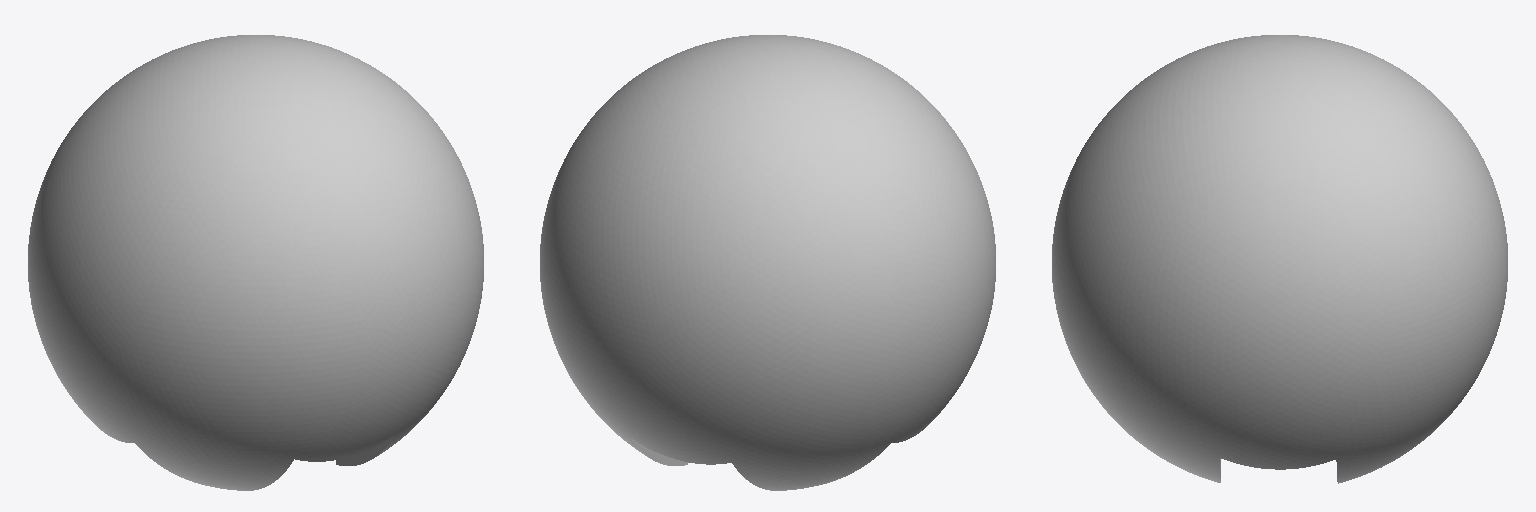
The model's file is blind.obj.
3 views of the same model, side by side, from view 1: azimuth 30°, elevation 25°; view 2: azimuth 150°, elevation 25°; view 3: azimuth 270°, elevation 25° (orthographic).
Parts seen in each view (by area): view 1: Object.1; view 2: Object.1; view 3: Object.1.
Boxes of the visible parts, box(x1,y1,x2,y2) form: Object.1: box(28, 35, 483, 490); Object.1: box(540, 35, 995, 490); Object.1: box(1052, 35, 1507, 483).
Bounding box in the file's own units: 37.4 × 36.14 × 37.4.